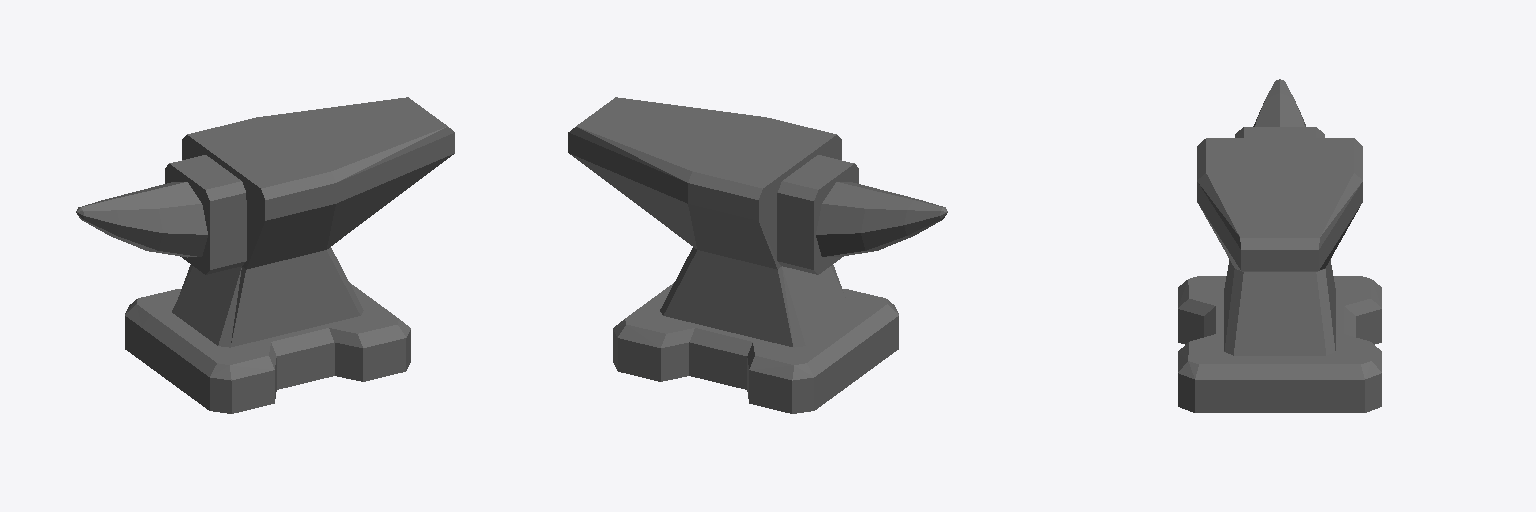
File: anvil.obj
3 renders of one model, left to right at view 1: azimuth 30°, elevation 25°; view 2: azimuth 150°, elevation 25°; view 3: azimuth 270°, elevation 25°, orthographic.
Parts seen in each view (by area): view 1: LO_Anvil_Untitled; view 2: LO_Anvil_Untitled; view 3: LO_Anvil_Untitled.
Boxes of the visible parts, x1,y1,x2,y2 form: LO_Anvil_Untitled: [76, 97, 454, 413]; LO_Anvil_Untitled: [568, 97, 947, 413]; LO_Anvil_Untitled: [1178, 79, 1381, 412].
Bounding box in the file's own units: 4.19 × 2.27 × 2.07.